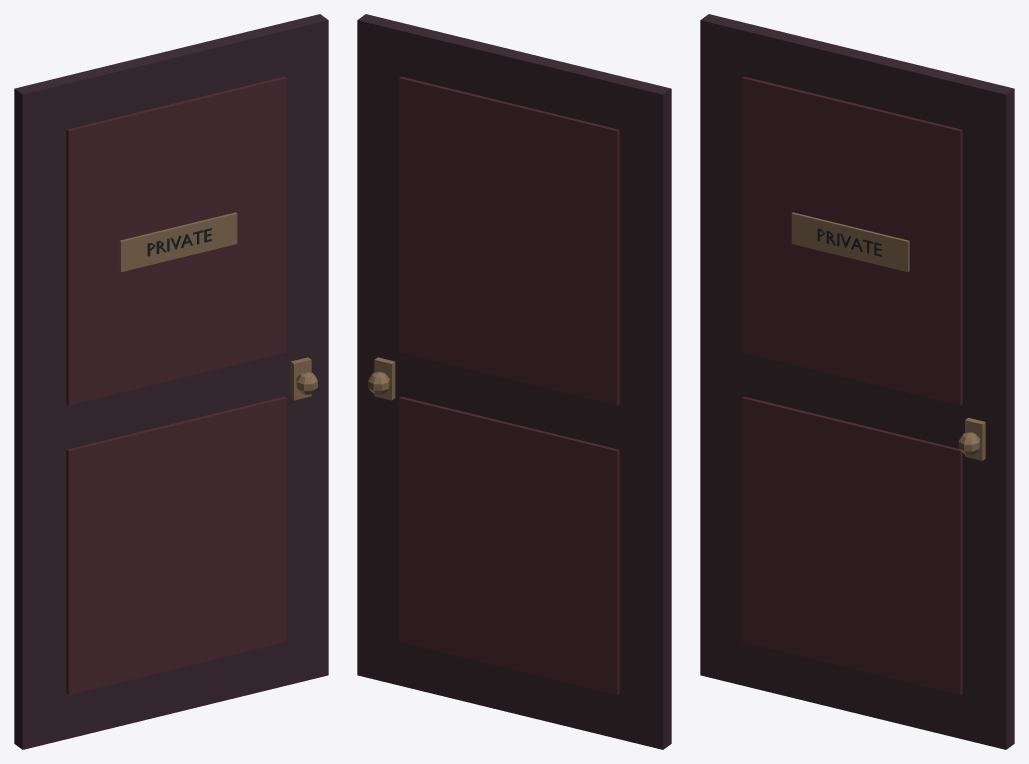
Rendered from usa_casino.glb.
The picture shows the model from 3 angles, left to right: view 1: azimuth 30°, elevation 25°; view 2: azimuth 150°, elevation 25°; view 3: azimuth 330°, elevation 25°; orthographic projection.
Parts seen in each view (by area): view 1: Usa; view 2: Usa; view 3: Usa.
Boxes of the visible parts, x1,y1,x2,y2 form: Usa: (14, 14, 328, 749); Usa: (357, 14, 671, 749); Usa: (700, 14, 1014, 749).
Bounding box in the file's own units: 1.05 × 2.15 × 0.2066.
